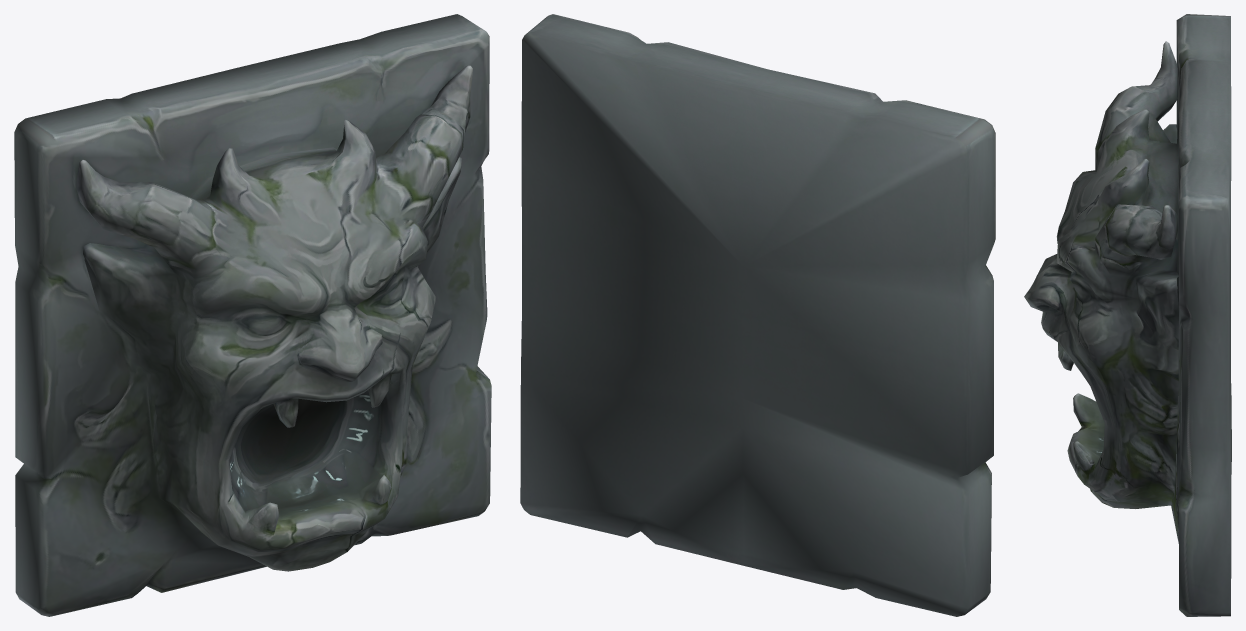
File: bocca_trappola.glb
The picture shows the model from 3 angles, left to right: view 1: azimuth 30°, elevation 25°; view 2: azimuth 150°, elevation 25°; view 3: azimuth 270°, elevation 25°; orthographic projection. The views are drawn at different scales.
Parts seen in each view (by area): view 1: bocca_trappola; view 2: bocca_trappola; view 3: bocca_trappola.
Boxes of the visible parts, <box> form: bocca_trappola: <box>14,14,491,616</box>; bocca_trappola: <box>520,14,995,616</box>; bocca_trappola: <box>1024,14,1231,616</box>.
Bounding box in the file's own units: 0.9761 × 0.9995 × 0.4468.
Materials: 1 (1 with a texture image).
